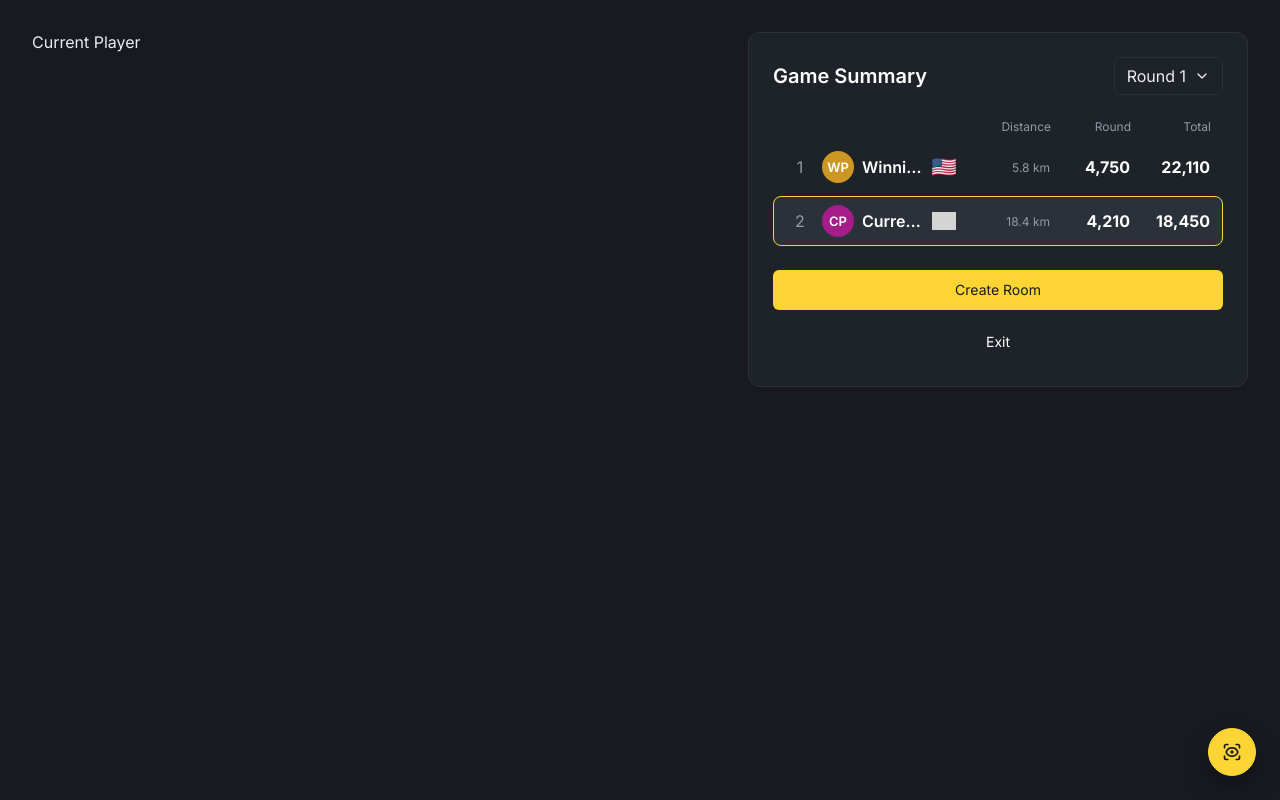
Test case: should update the selected player shown on the map
Click the button "1 WP Winning Player 5.8 km 4,750 22,110" at x=838, y=167, box x1=773 y1=142 x2=1223 y2=192
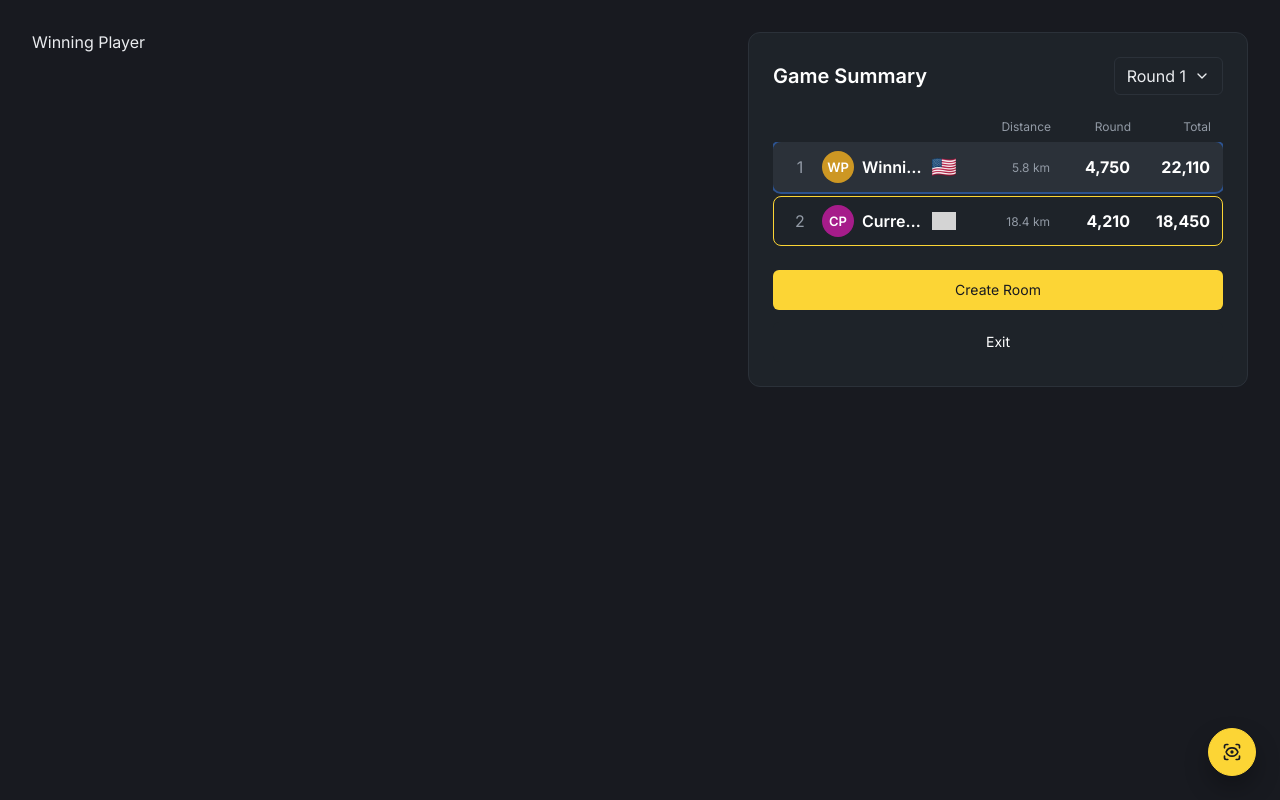
Expected: the text with test id "summary-map" reads "Winning Player", x1=32 y1=32 x2=145 y2=52
